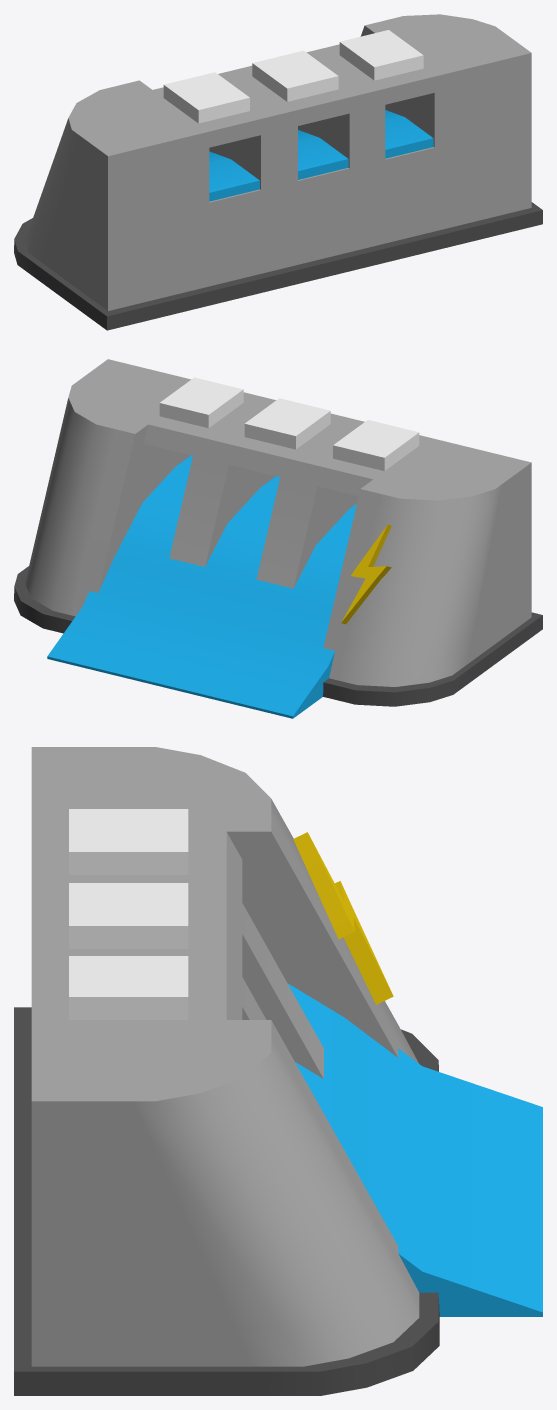
The model's file is HydroelectrickLightning.fbx.
The picture shows the model from 3 angles, top to bottom: view 1: azimuth 30°, elevation 25°; view 2: azimuth 150°, elevation 25°; view 3: azimuth 270°, elevation 25°; orthographic projection. The views are drawn at different scales.
Parts seen in each view (by area): view 1: hydroelectric_lightning; view 2: hydroelectric_lightning; view 3: hydroelectric_lightning.
Boxes of the visible parts, box(x1,y1,x2,y2) form: hydroelectric_lightning: box(14, 14, 542, 330); hydroelectric_lightning: box(14, 359, 542, 718); hydroelectric_lightning: box(14, 747, 542, 1395).
Bounding box in the file's own units: 788 × 315 × 483.
